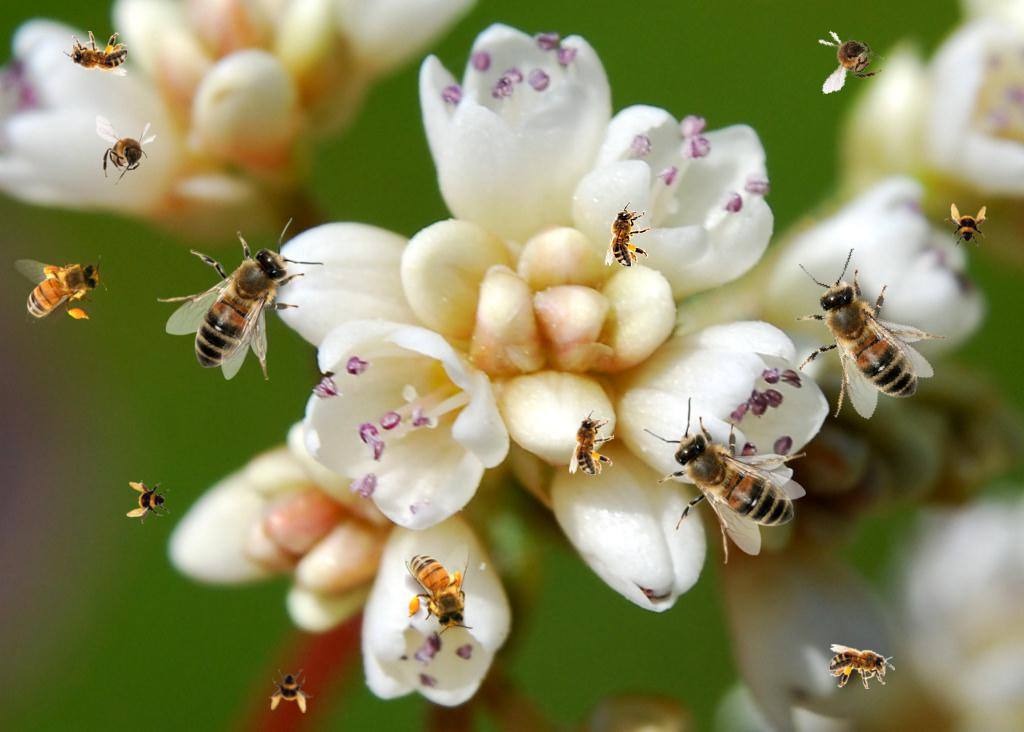Bee: (757, 233, 964, 443), (644, 397, 806, 564), (157, 218, 324, 380), (14, 255, 107, 323), (405, 542, 473, 635), (809, 19, 892, 95), (96, 115, 157, 185), (62, 31, 128, 76), (569, 409, 614, 475), (829, 644, 895, 689), (605, 201, 650, 267), (944, 203, 988, 247), (269, 669, 313, 713), (126, 480, 170, 524)
